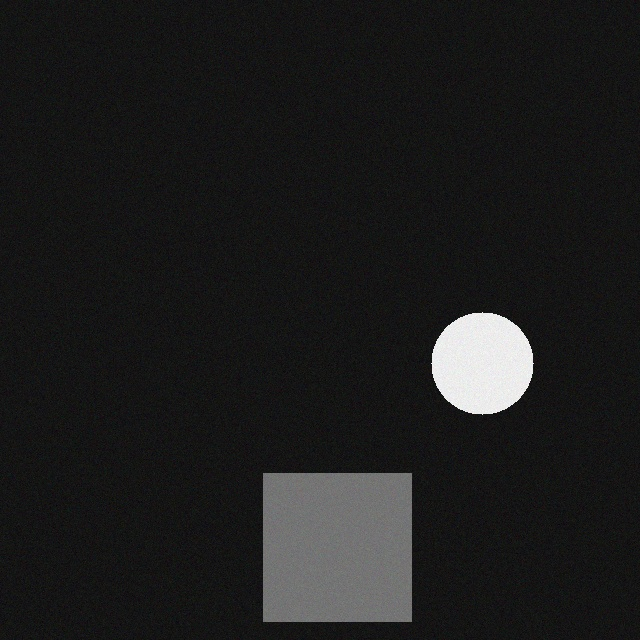circle: (432, 301, 534, 403)
square: (264, 462, 412, 610)
